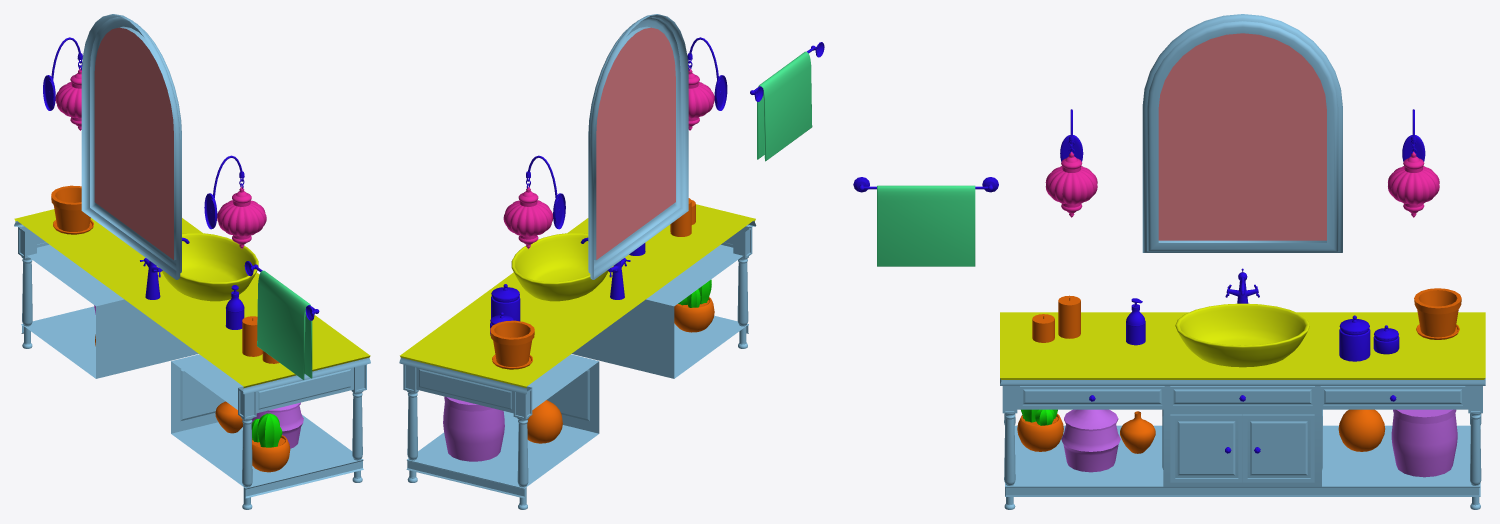
The model's file is sm_sink.fbx.
3 renders of one model, left to right at view 1: azimuth 30°, elevation 25°; view 2: azimuth 150°, elevation 25°; view 3: azimuth 270°, elevation 25°, orthographic. The views are drawn at different scales.
Visible parts, largest first — view 1: sm_sink_cabinet, sm_mirror, sm_sink_cabinet.020, sm_mirror_frame, sm_towel_hanged.001, sm_basin, sm_sink_cabinet.004, sm_sink_cabinet.021, sm_mini_lamp, sm_sink_cabinet.019, sm_pot_sink, sm_cacti (+9 smaller); view 2: sm_sink_cabinet, sm_sink_cabinet.020, sm_mirror, sm_mirror_frame, sm_basin, sm_towel_hanged.001, sm_basket.001, sm_sink_cabinet.004, sm_sink_cabinet.018, sm_pot_sink, sm_mini_lamp.012, sm_sink_cabinet.017 (+7 smaller); view 3: sm_mirror, sm_sink_cabinet, sm_sink_cabinet.020, sm_mirror_frame, sm_towel_hanged.001, sm_basin, sm_basket.001, sm_sink_cabinet.009, sm_basket, sm_sink_cabinet.008, sm_sink_cabinet.010, sm_sink_cabinet.011 (+15 smaller).
Part boxes in pixels (bbox=[...]): sm_sink_cabinet: bbox=[14, 221, 370, 498]; sm_mirror: bbox=[94, 27, 173, 259]; sm_sink_cabinet.020: bbox=[14, 209, 370, 388]; sm_mirror_frame: bbox=[81, 14, 181, 279]; sm_towel_hanged.001: bbox=[257, 270, 312, 379]; sm_basin: bbox=[162, 233, 258, 301]; sm_sink_cabinet.004: bbox=[21, 256, 363, 509]; sm_sink_cabinet.021: bbox=[258, 369, 350, 409]; sm_mini_lamp: bbox=[217, 200, 266, 236]; sm_sink_cabinet.019: bbox=[180, 369, 225, 421]; sm_pot_sink: bbox=[51, 185, 90, 231]; sm_cacti: bbox=[252, 435, 290, 472]; sm_sink_cabinet: bbox=[399, 221, 756, 498]; sm_sink_cabinet.020: bbox=[400, 204, 755, 388]; sm_mirror: bbox=[596, 27, 675, 259]; sm_mirror_frame: bbox=[588, 14, 688, 279]; sm_basin: bbox=[511, 233, 608, 301]; sm_towel_hanged.001: bbox=[757, 51, 812, 161]; sm_basket.001: bbox=[443, 396, 504, 461]; sm_sink_cabinet.004: bbox=[407, 256, 748, 509]; sm_sink_cabinet.018: bbox=[419, 369, 511, 409]; sm_pot_sink: bbox=[490, 320, 534, 366]; sm_mini_lamp.012: bbox=[503, 200, 553, 236]; sm_sink_cabinet.017: bbox=[547, 369, 589, 421]; sm_mirror: bbox=[1158, 33, 1326, 240]; sm_sink_cabinet: bbox=[1000, 378, 1485, 496]; sm_sink_cabinet.020: bbox=[1000, 312, 1485, 379]; sm_mirror_frame: bbox=[1142, 14, 1342, 252]; sm_towel_hanged.001: bbox=[877, 185, 975, 266]; sm_basin: bbox=[1175, 303, 1309, 367]; sm_basket.001: bbox=[1391, 409, 1457, 477]; sm_sink_cabinet.009: bbox=[1177, 421, 1235, 475]; sm_basket: bbox=[1061, 409, 1120, 472]; sm_sink_cabinet.008: bbox=[1250, 421, 1307, 475]; sm_sink_cabinet.010: bbox=[1023, 389, 1161, 403]; sm_sink_cabinet.011: bbox=[1173, 389, 1311, 403].
Bounding box in the file's own units: 81.98 × 249 × 329.
